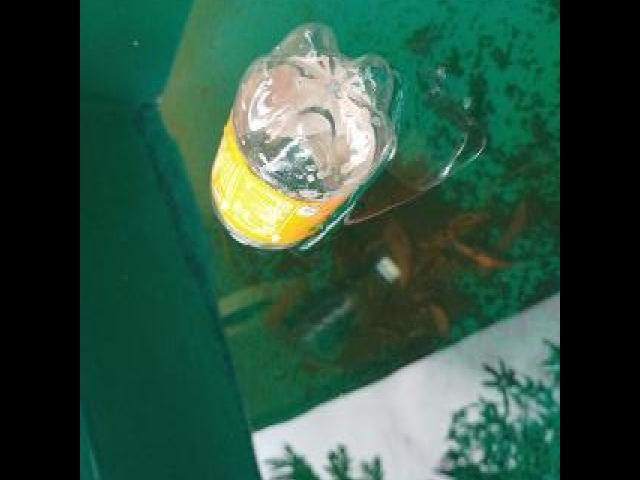Bottle: (199, 12, 407, 264)
